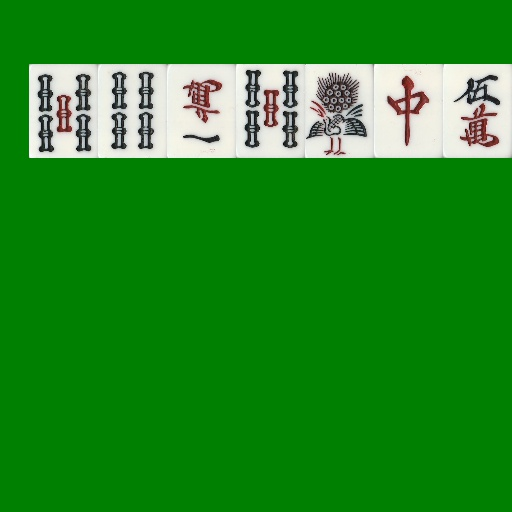1m: (167, 64, 236, 158)
1s: (305, 64, 374, 158)
4s: (98, 64, 167, 158)
5m: (443, 64, 512, 158)
5s: (29, 64, 98, 158), (236, 64, 305, 158)
tyun: (374, 64, 443, 158)
